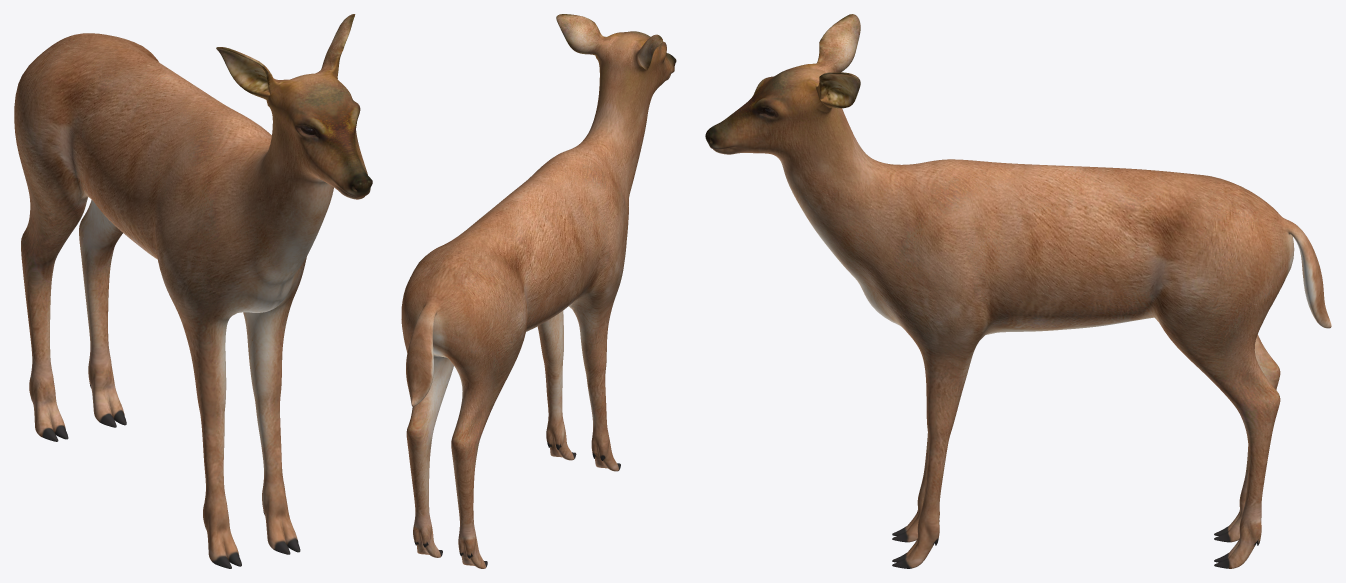
File: VenadoColaBlanca_01.glb
The picture shows the model from 3 angles, left to right: view 1: azimuth 30°, elevation 25°; view 2: azimuth 150°, elevation 25°; view 3: azimuth 270°, elevation 25°; orthographic projection. The views are drawn at different scales.
Parts seen in each view (by area): view 1: White-Tailed_Deer; view 2: White-Tailed_Deer; view 3: White-Tailed_Deer.
Boxes of the visible parts, box(x1,y1,x2,y2) form: White-Tailed_Deer: box(14, 14, 372, 568); White-Tailed_Deer: box(401, 14, 676, 568); White-Tailed_Deer: box(705, 14, 1331, 568).
Size of the model in its own units: 0.9215 by 3.46 by 3.88.
Materials: 1 (1 with a texture image).
